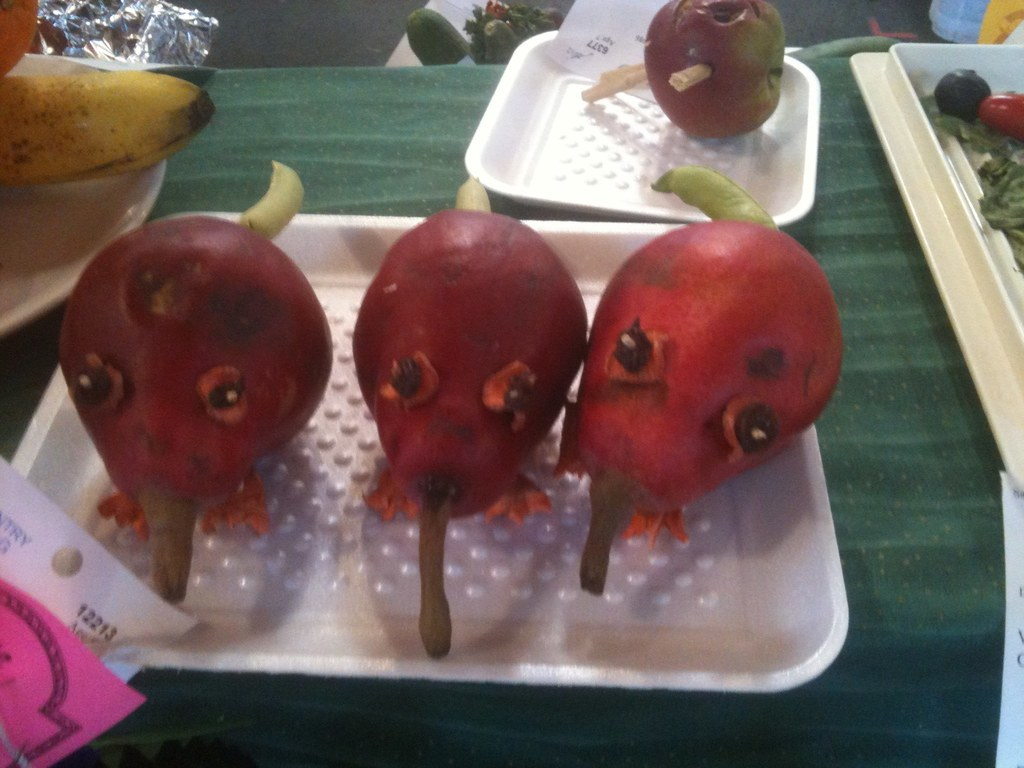Apple: (662, 11, 812, 147)
